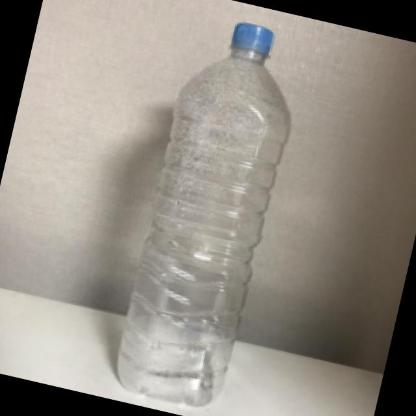Plastic Bottle: (117, 22, 291, 407)
